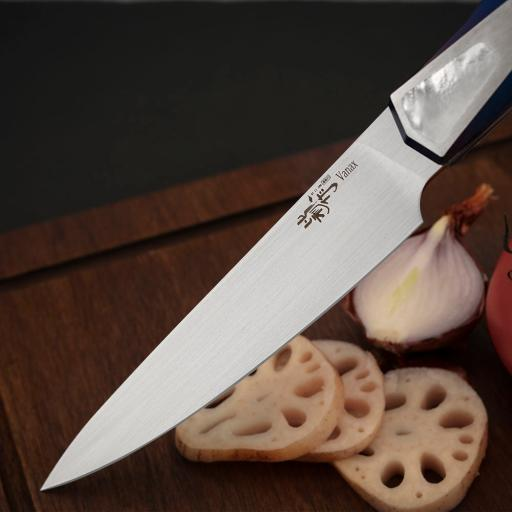knife: (37, 2, 504, 507)
